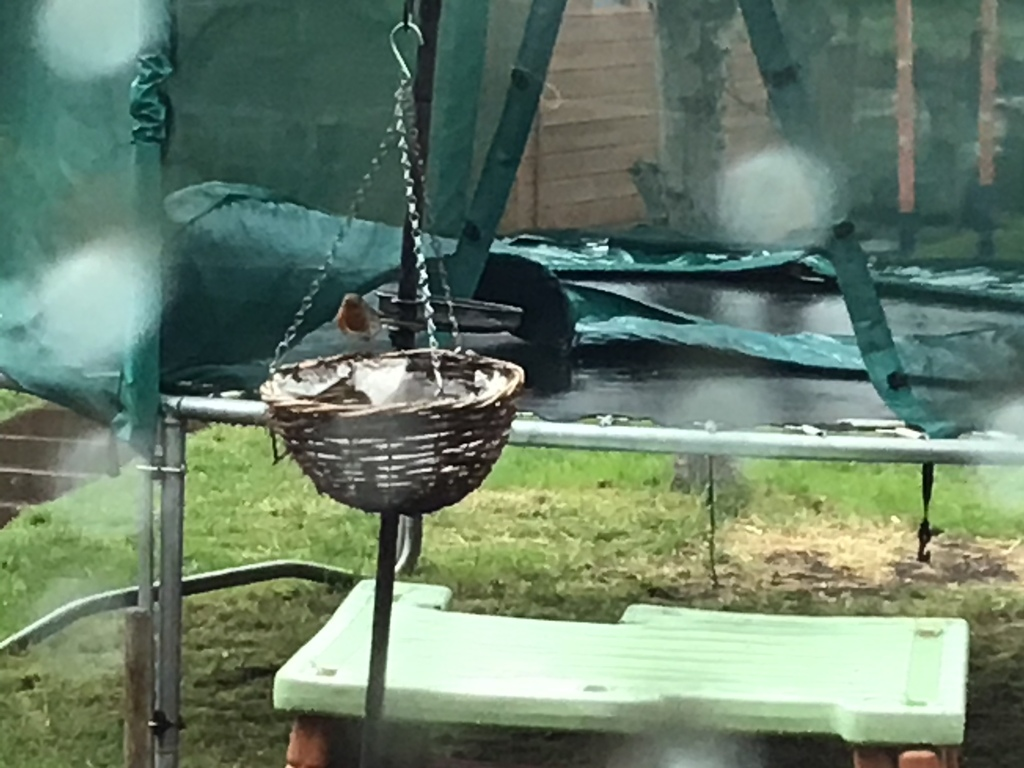Erithacus_Rubecula: (333, 292, 382, 353)
